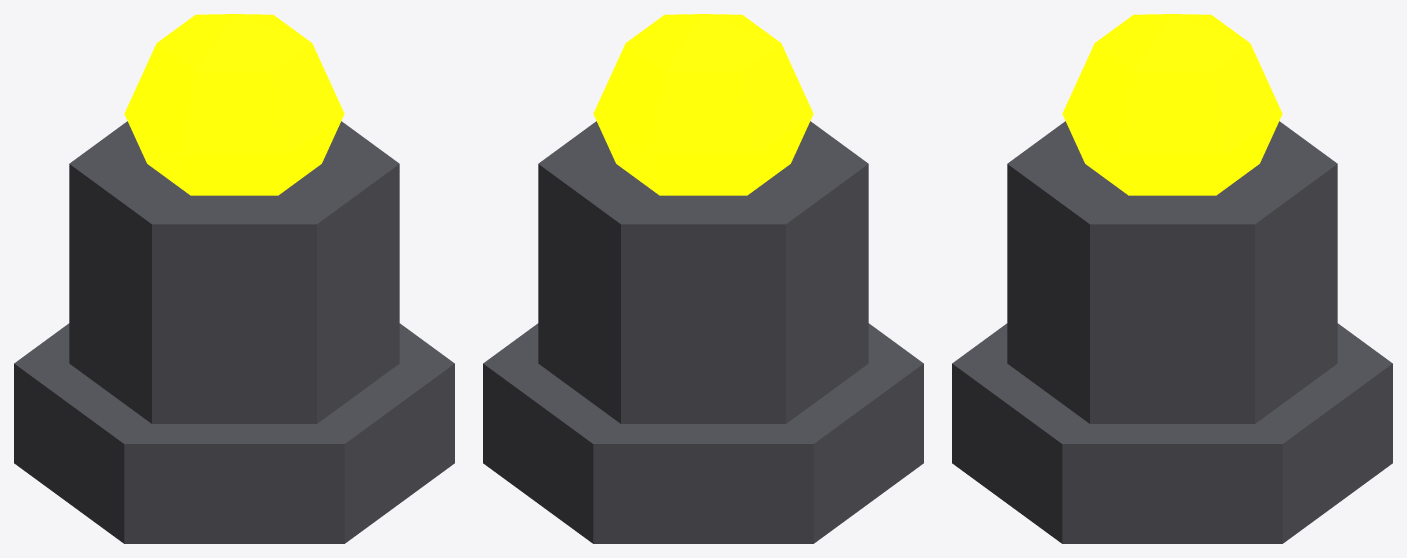
The model's file is tower_splash_lod1.glb.
3 views of the same model, side by side, from view 1: azimuth 30°, elevation 25°; view 2: azimuth 150°, elevation 25°; view 3: azimuth 270°, elevation 25° (orthographic).
Parts seen in each view (by area): view 1: tower_splash_lod1; view 2: tower_splash_lod1; view 3: tower_splash_lod1.
Boxes of the visible parts, x1,y1,x2,y2 form: tower_splash_lod1: (14, 14, 454, 543); tower_splash_lod1: (483, 14, 923, 543); tower_splash_lod1: (952, 14, 1392, 543).
Size of the model in its own units: 0.6928 by 0.9 by 0.8.
